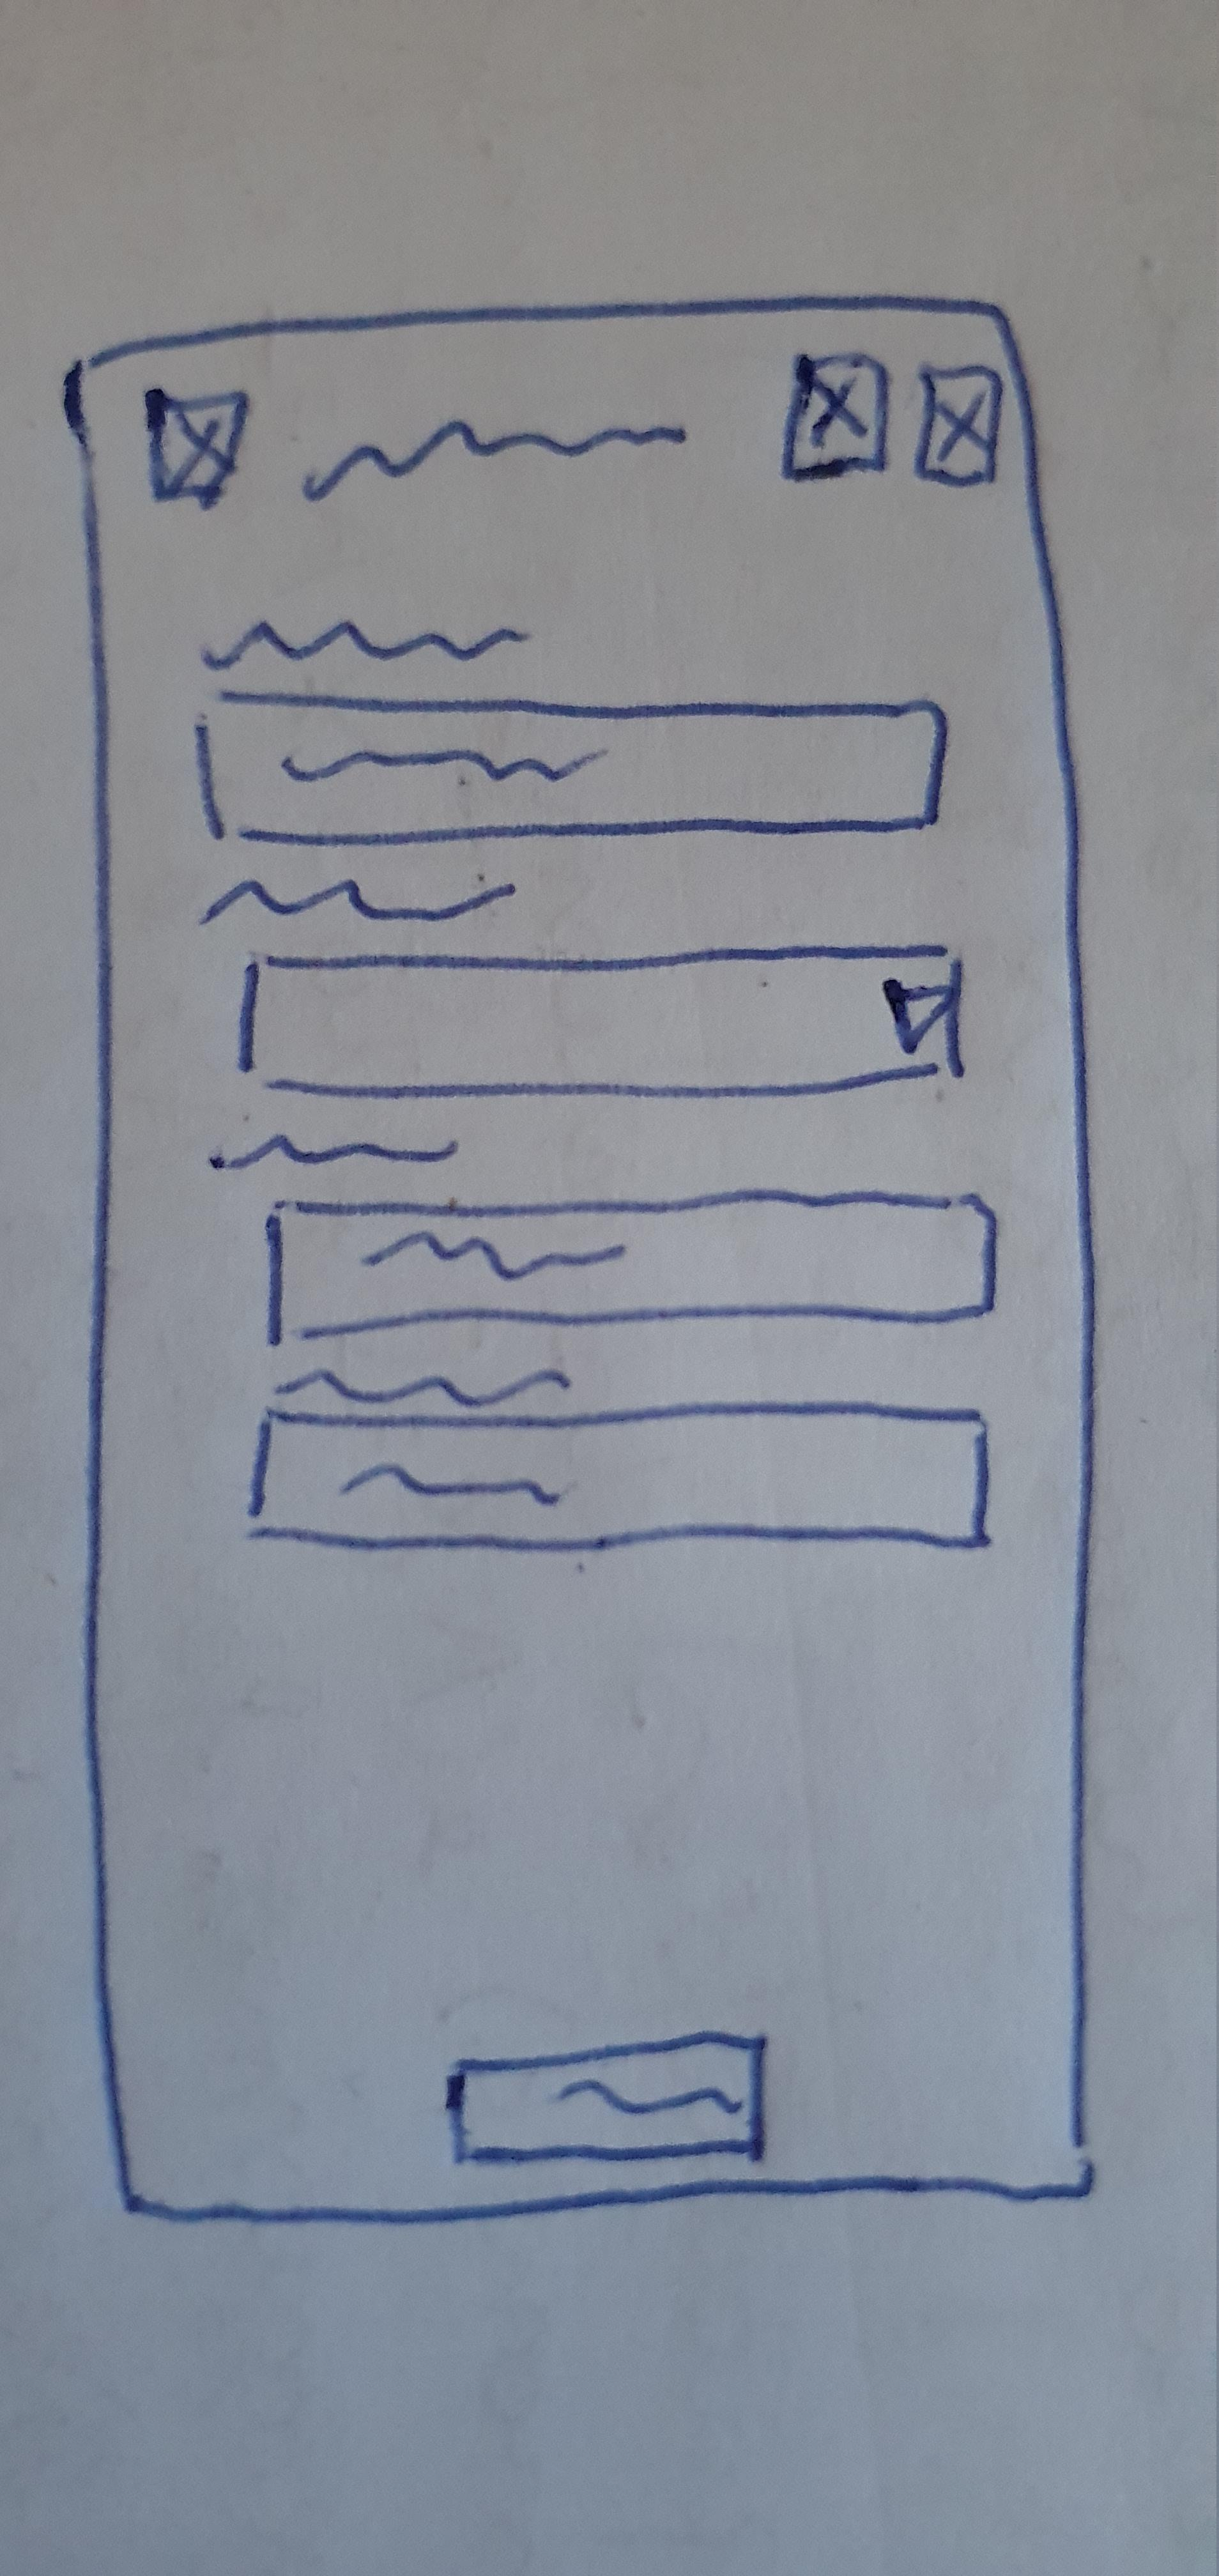Button: (448, 2031, 764, 2165), (777, 350, 890, 481), (141, 389, 246, 506), (917, 361, 1002, 486)
Label: (299, 417, 690, 499), (199, 614, 529, 674), (202, 876, 521, 923), (273, 1362, 575, 1408), (212, 1130, 462, 1173)
ListPicker: (237, 945, 964, 1097)
Screen: (67, 296, 1097, 2223)
TextBox: (195, 688, 948, 848), (233, 1398, 992, 1552), (269, 1184, 996, 1342)
